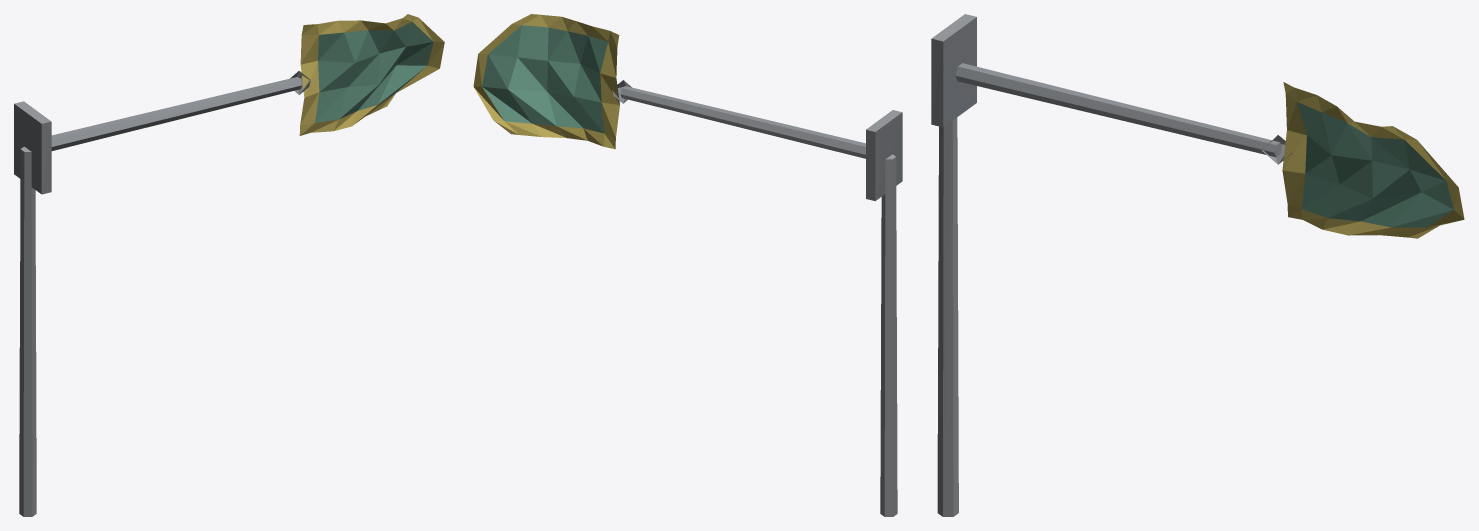
File: flag.roundFly.cuiqi__pole.horizontal.big__armFly.glb
3 renders of one model, left to right at view 1: azimuth 30°, elevation 25°; view 2: azimuth 150°, elevation 25°; view 3: azimuth 330°, elevation 25°, orthographic. The views are drawn at different scales.
Visible parts, largest first — view 1: flag.roundFly.cuiqi; view 2: flag.roundFly.cuiqi; view 3: flag.roundFly.cuiqi.
Part boxes in pixels (x1=…): flag.roundFly.cuiqi: x1=14, y1=14, x2=444, y2=516; flag.roundFly.cuiqi: x1=473, y1=14, x2=902, y2=516; flag.roundFly.cuiqi: x1=931, y1=14, x2=1464, y2=516.
Size of the model in its own units: 3.9 by 3.7 by 0.4779.
